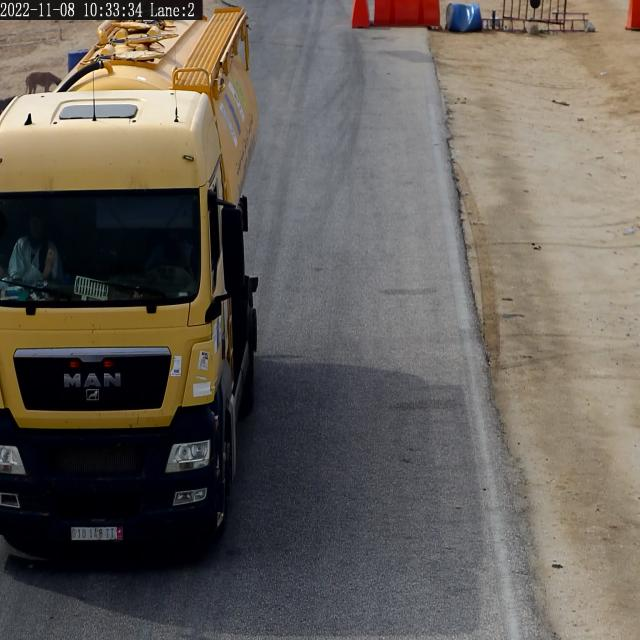BUS: (71, 527, 122, 541)
